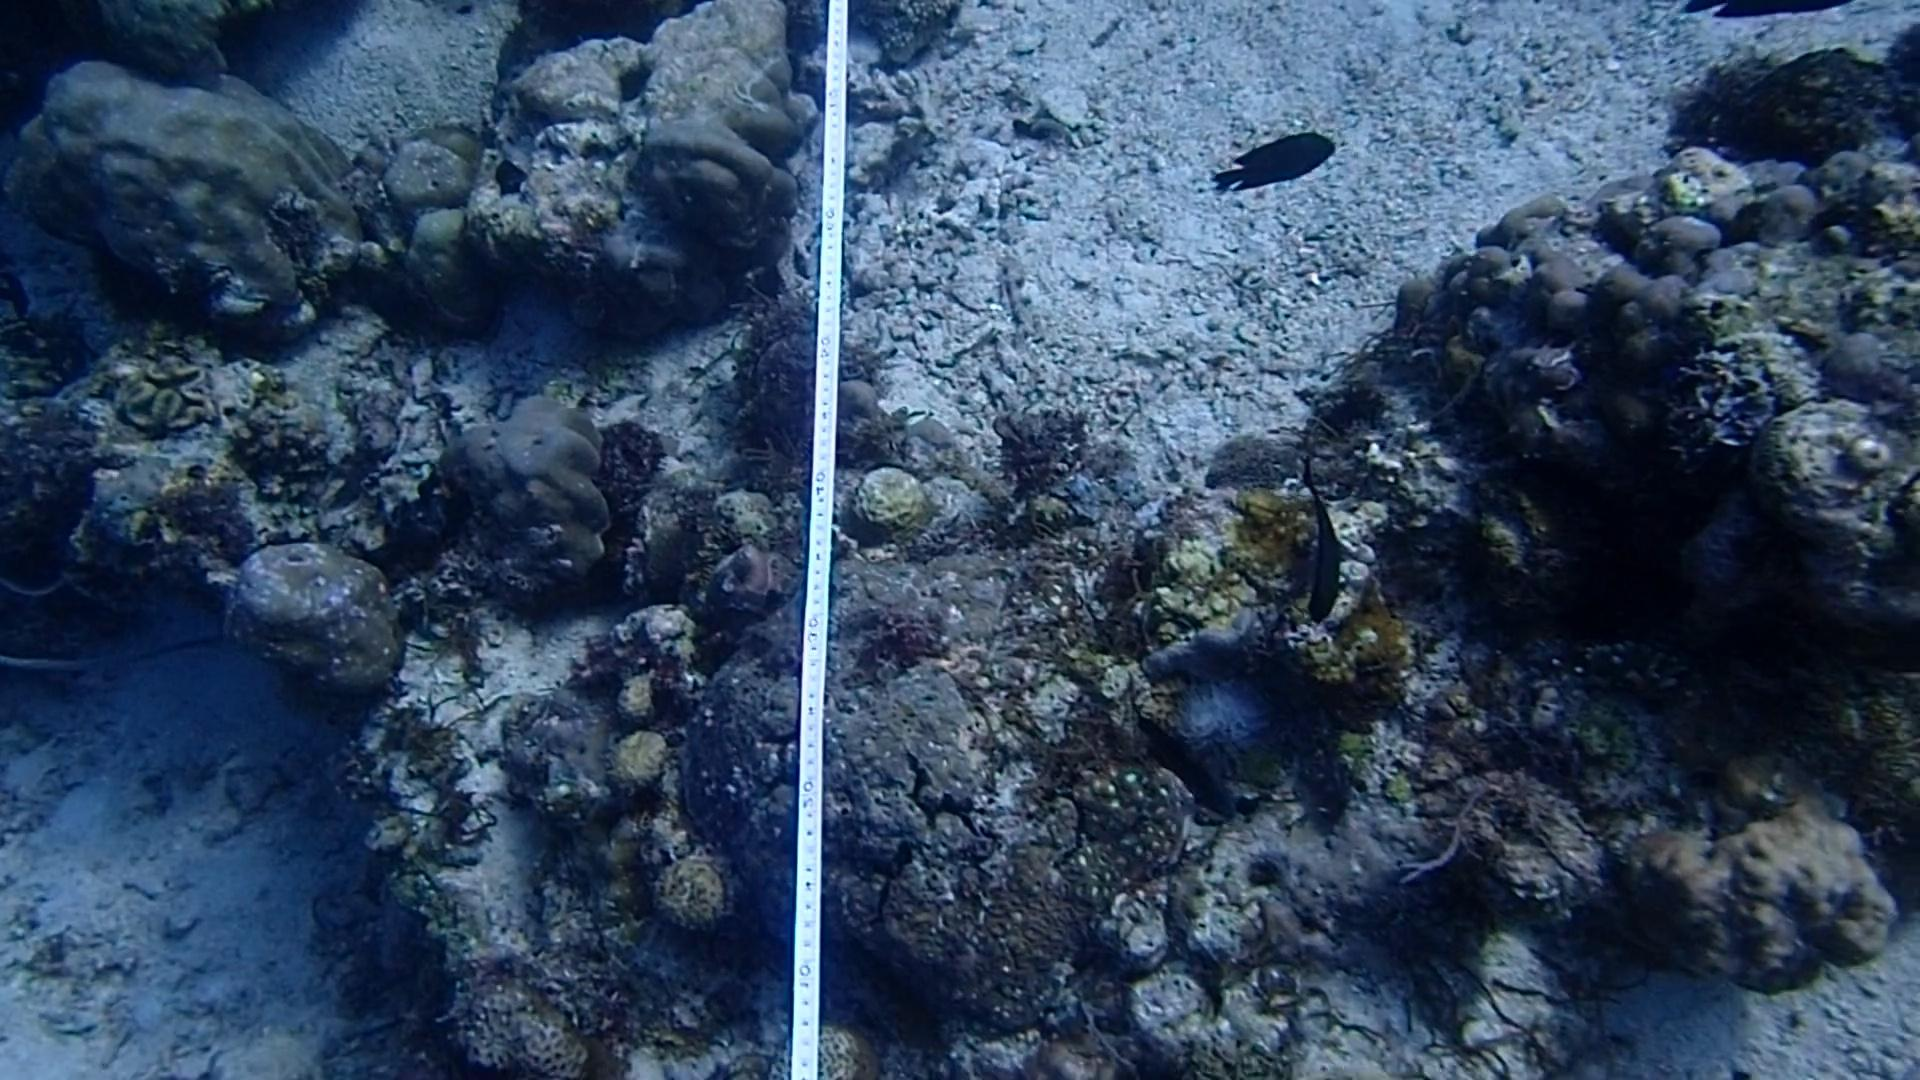Dark Fish: (1279, 460, 1369, 630), (1134, 705, 1253, 824), (1205, 111, 1346, 210), (1673, 0, 1858, 32)
